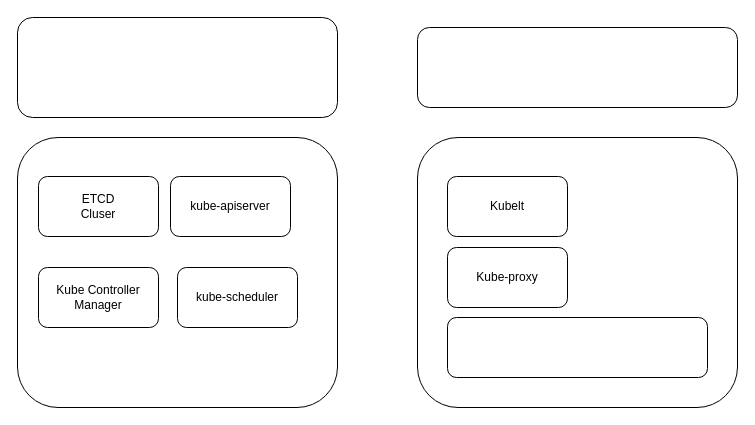
Image size: 755x425. Some labels were removed from this diagram. The box of each missing label's shape, as (x1, y1, x2, y2) in pixels:
Container Runtime Engine Docker, rkt, etc: (446, 316, 708, 378)
Master Manage, Plan, Schedule, Monitor Nodes: (16, 16, 338, 118)
Worker Nodes Host Application as Containers: (416, 26, 738, 108)
